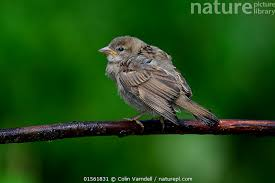hsparrow: (88, 35, 220, 128)
